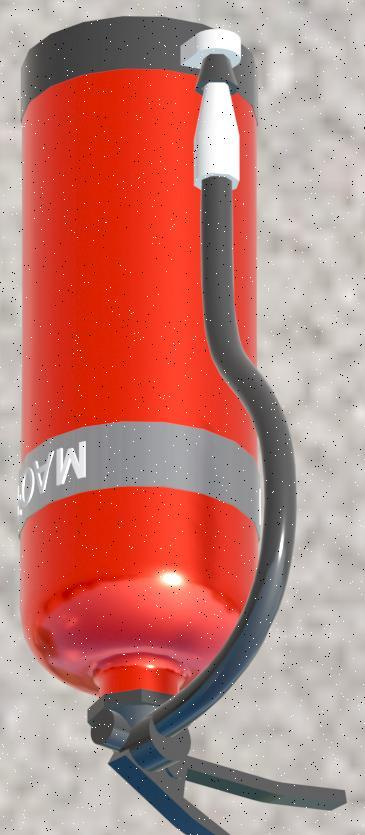Fire Extinguisher: (7, 10, 345, 828)
